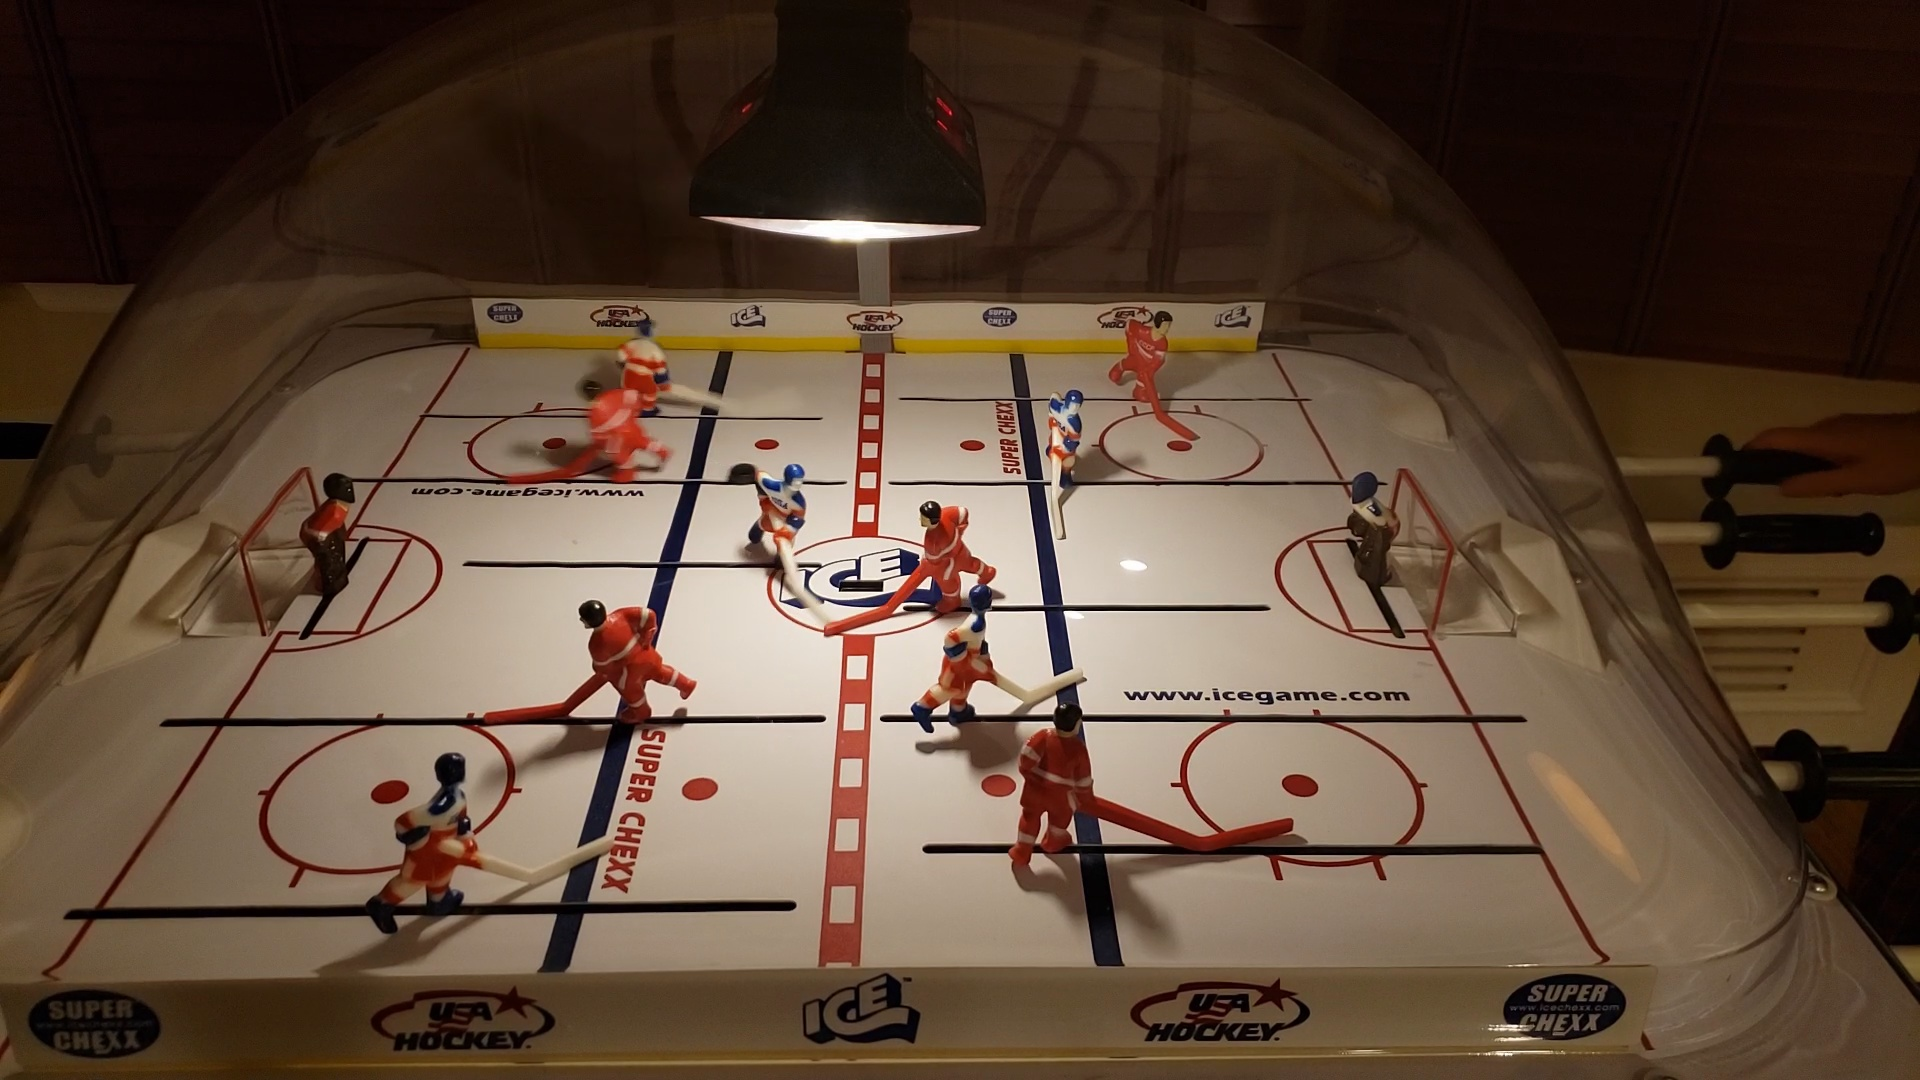puck: (723, 460, 760, 485)
